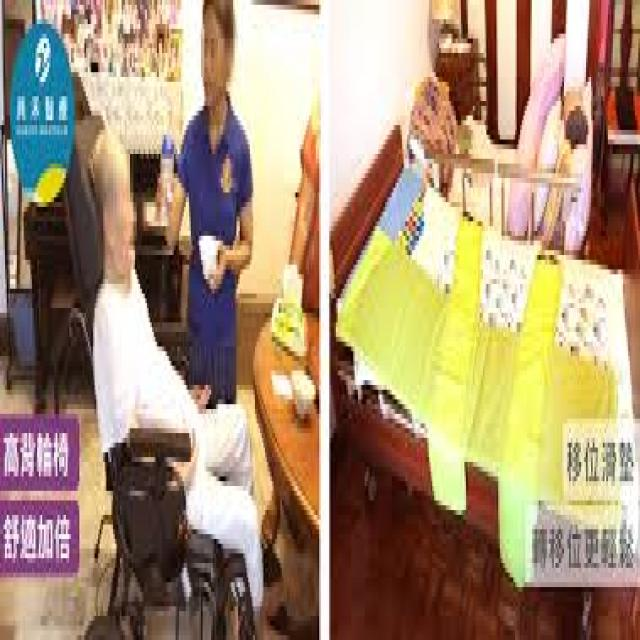wheelchairs: (54, 236, 265, 635)
